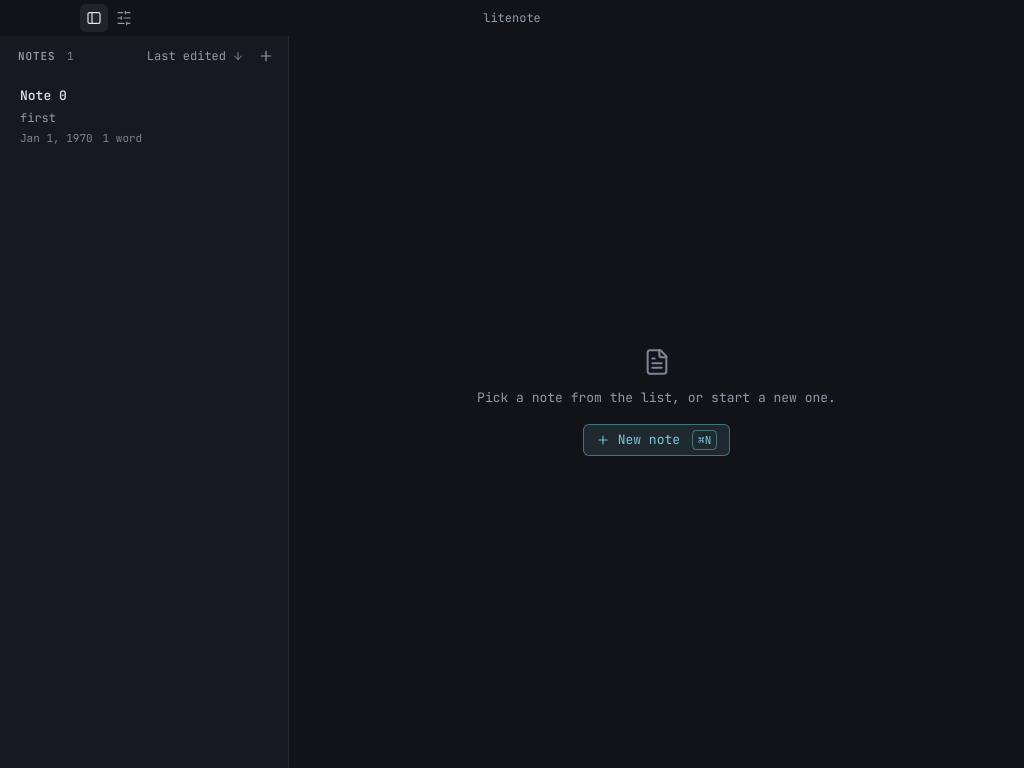
App › deleting › shows the empty state after deleting the last note
The width and height of the screenshot is (1024, 768).
Click the text "Note 0": (43, 96) [20,87,67,104]
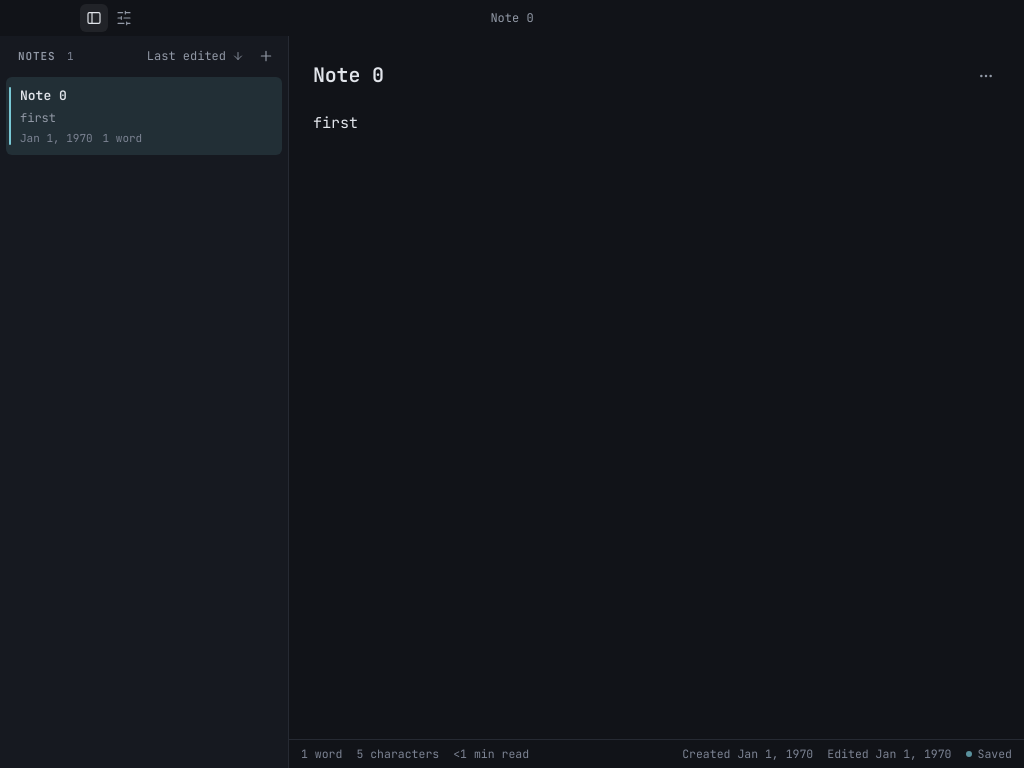
Click the button named "Note actions": (986, 76) [972,62,1000,90]
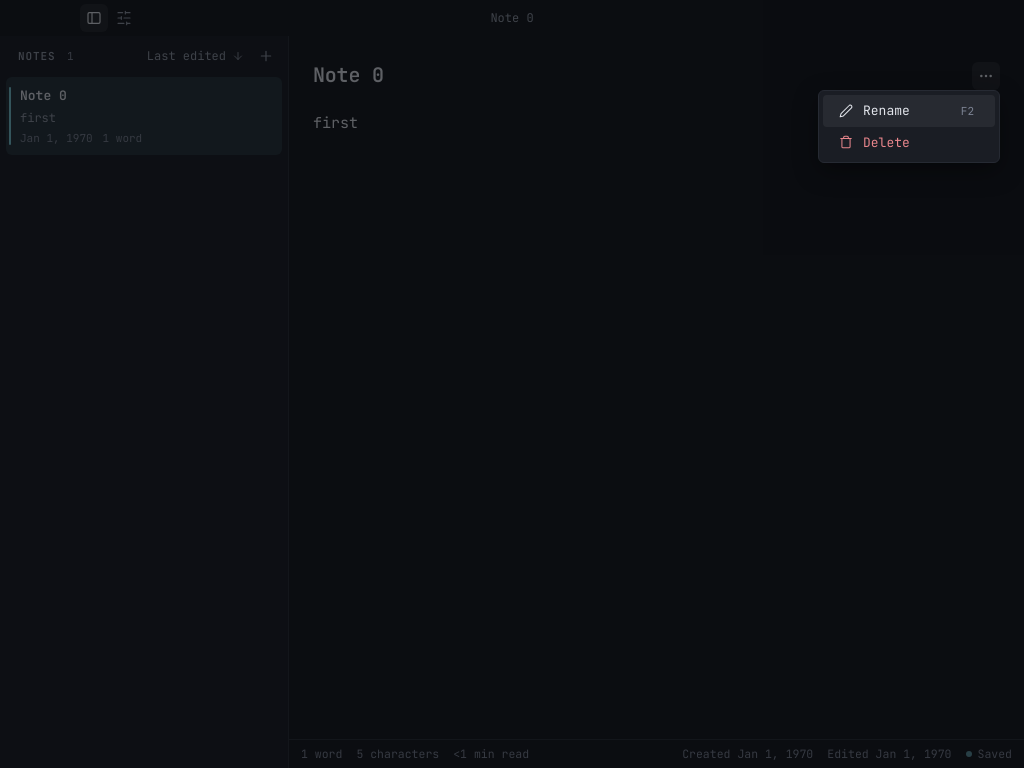
Click the menu item "Delete": (874, 142) [839,134,910,150]
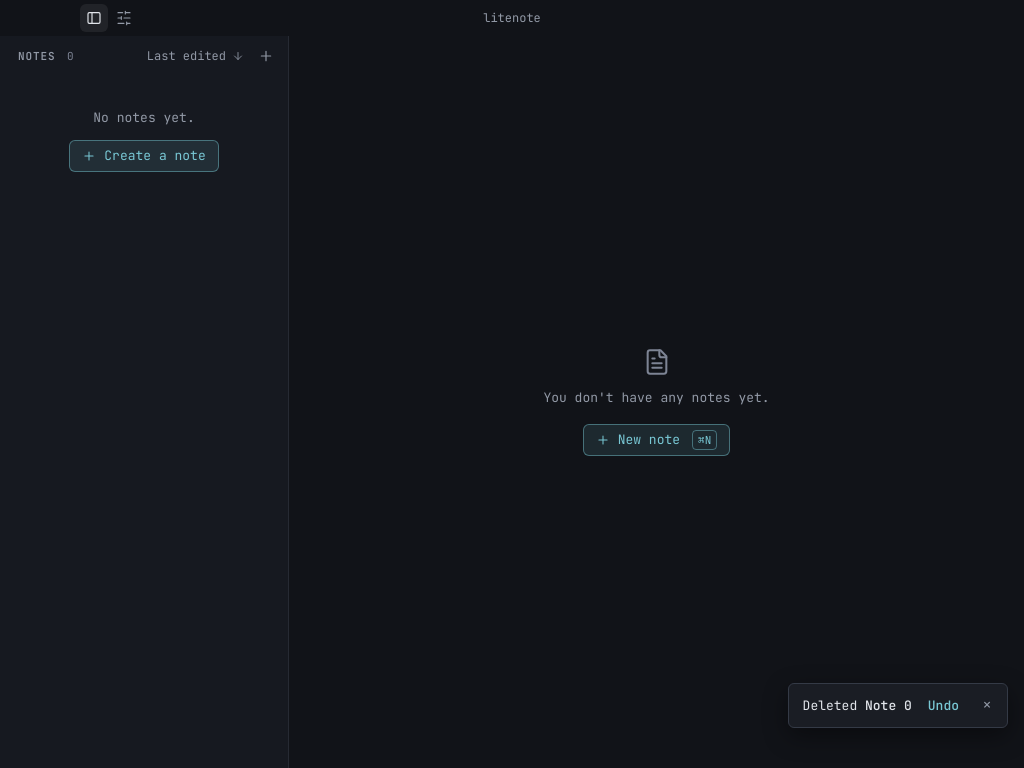
expect the field labelled "Note text" is gone: met
expect the text "You don't have any notes yet." is shown: met, box [543,388,770,408]
expect the text "No notes yet." is shown: met, box [93,108,195,128]
